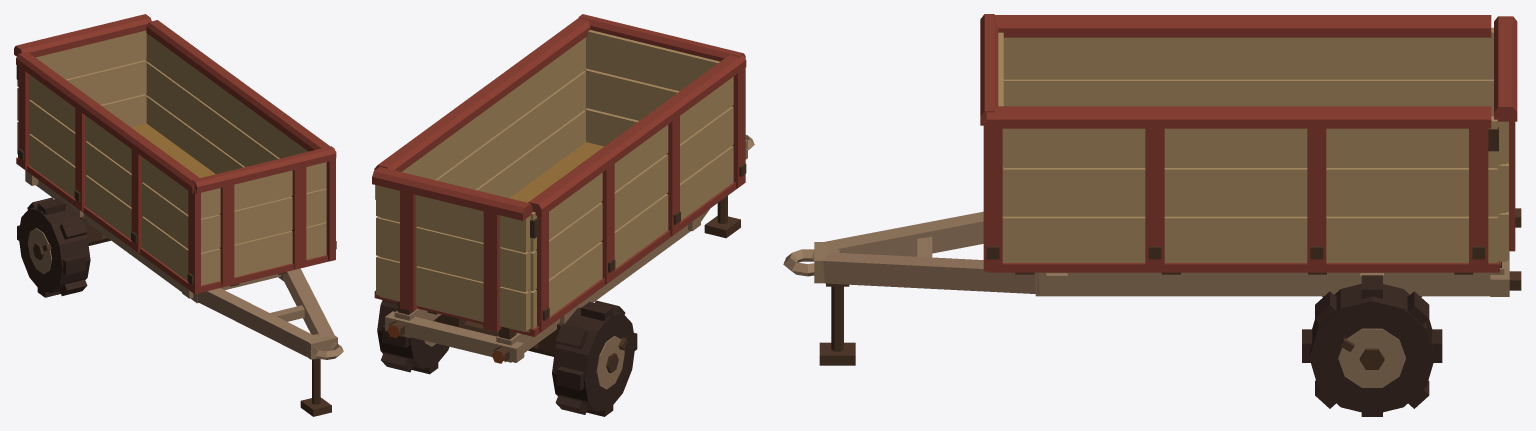
The model's file is tipping-trailer-061095.glb.
3 views of the same model, side by side, from view 1: azimuth 30°, elevation 25°; view 2: azimuth 150°, elevation 25°; view 3: azimuth 270°, elevation 25° (orthographic). The views are drawn at different scales.
Parts seen in each view (by area): view 1: trailer-tub, trailer-tailboard, trailer-chassis, tyre-l; view 2: trailer-tub, trailer-tailboard, tyre-l, trailer-chassis, tyre-r; view 3: trailer-tub, trailer-chassis, tyre-r, trailer-tailboard.
Part boxes in pixels (x1,y1,x2,y2): trailer-tub: (16,20,336,294); trailer-tailboard: (14,14,151,154); trailer-chassis: (25,170,343,416); tyre-l: (17,197,90,297); trailer-tub: (374,14,746,336); trailer-tailboard: (372,167,532,331); tyre-l: (552,300,637,416); trailer-chassis: (385,135,754,363); tyre-r: (377,300,449,374); trailer-tub: (980,14,1500,274); trailer-chassis: (783,208,1521,365); tyre-r: (1302,275,1442,416); trailer-tailboard: (1494,16,1517,261).
Bounding box in the file's own units: 1.45 × 1.54 × 3.47.
